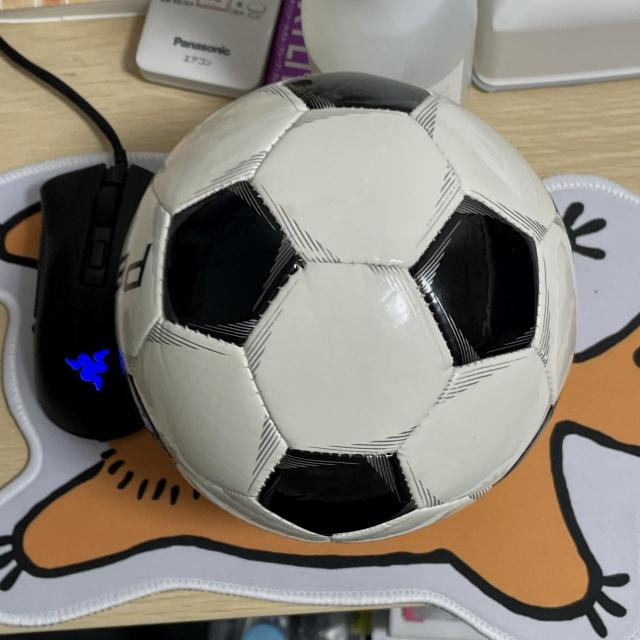Soccer Ball: (112, 72, 576, 546)
